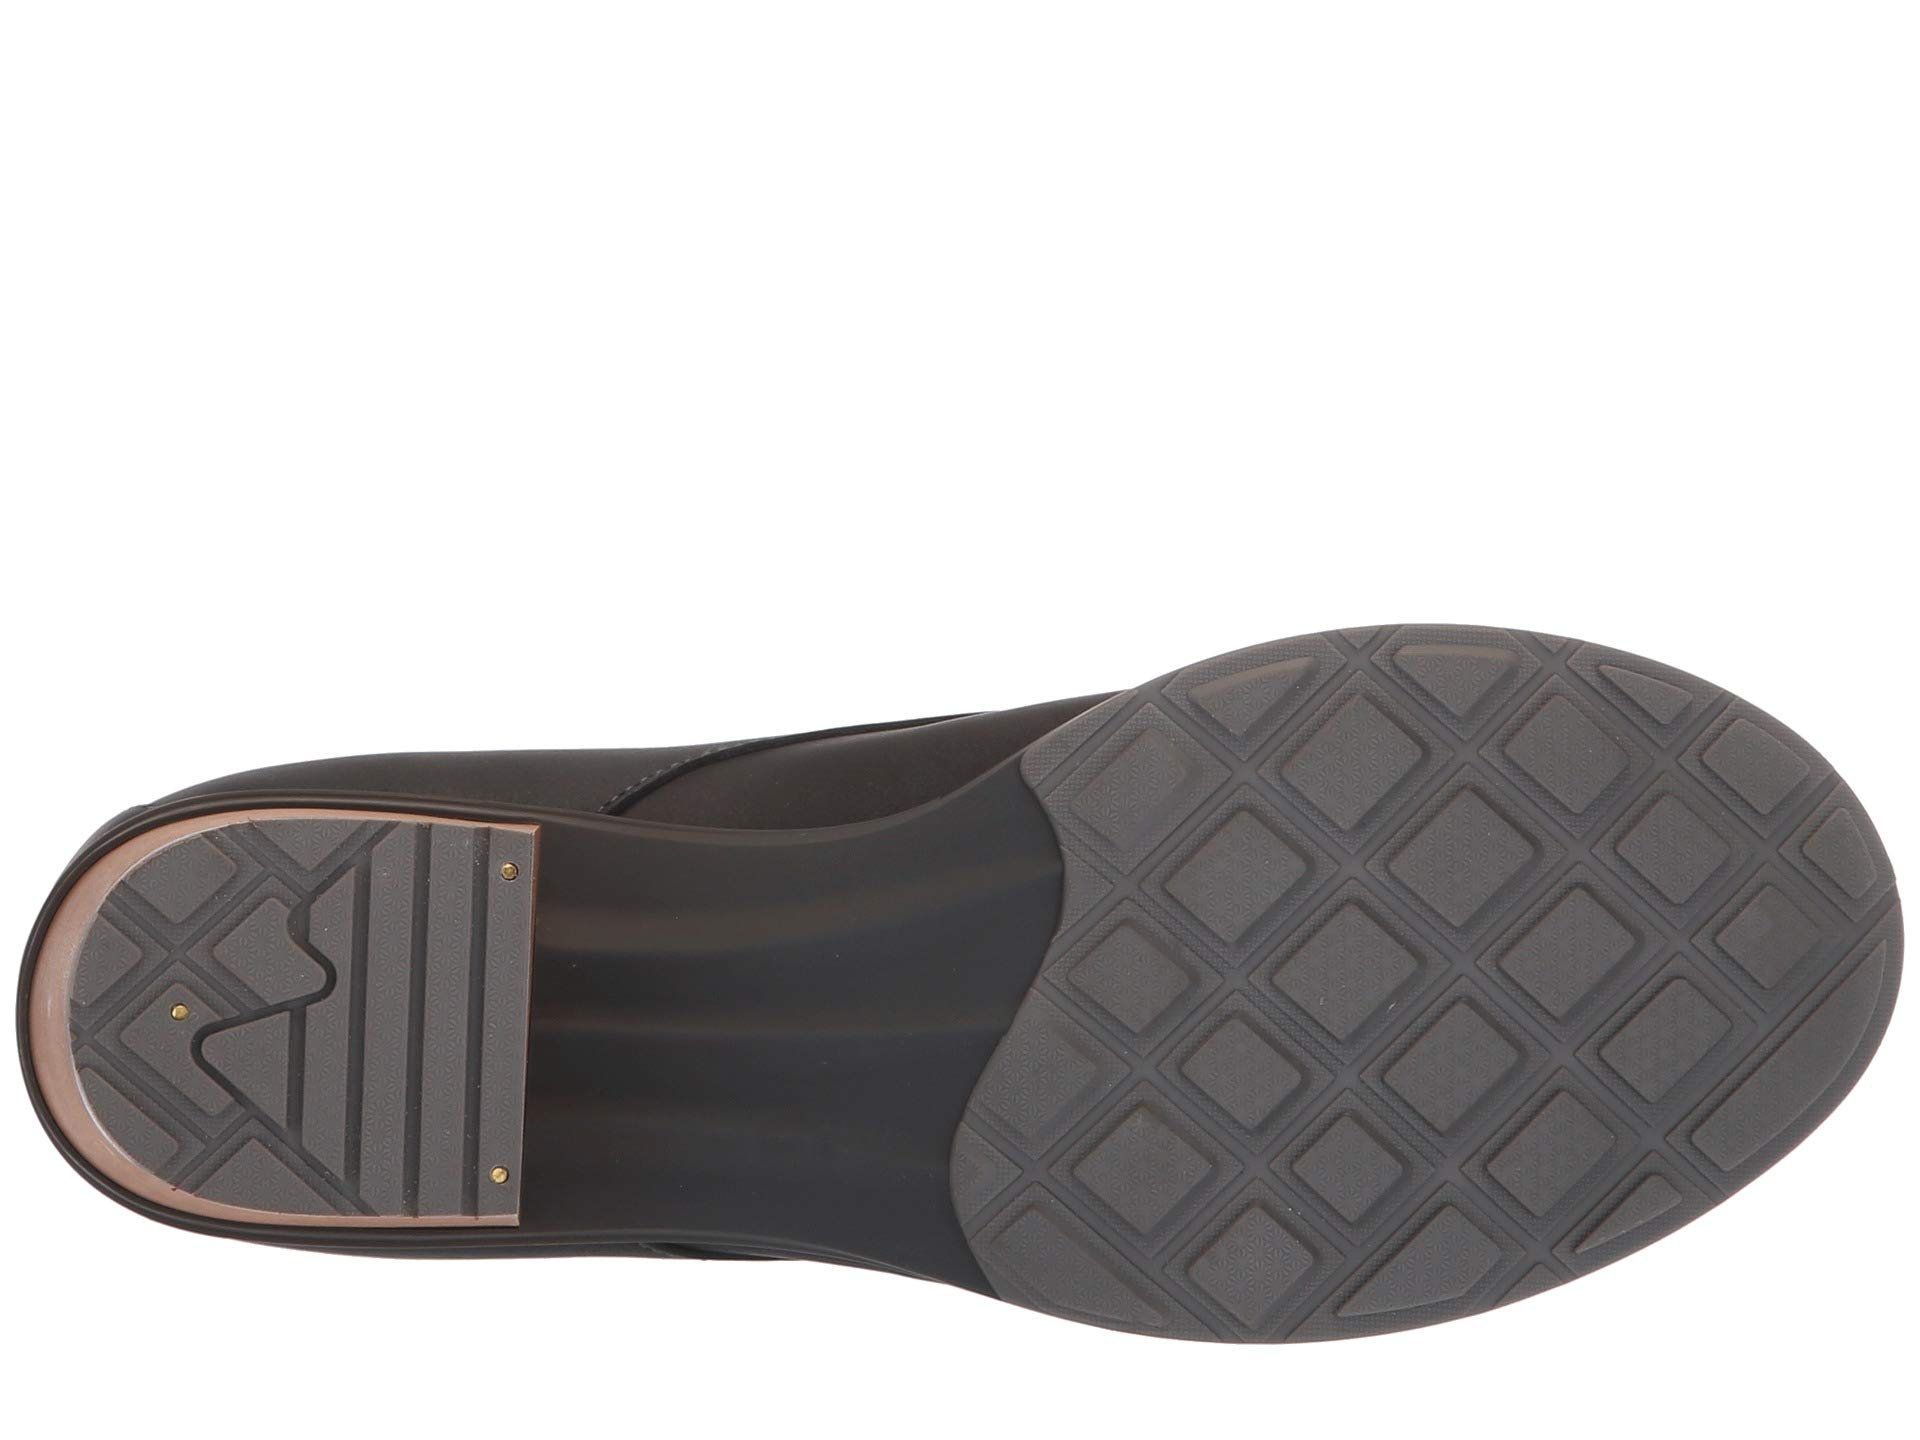chevron: (1116, 941, 1347, 1215), (1534, 629, 1770, 833), (98, 961, 262, 1163)
circle: (98, 961, 262, 1163), (417, 821, 540, 936)
line: (1616, 957, 1810, 1198), (345, 945, 493, 1131), (417, 821, 540, 936)
quad: (1116, 941, 1347, 1215), (1534, 629, 1770, 833), (1616, 957, 1810, 1198), (98, 961, 262, 1163)
triangle: (1534, 629, 1770, 833)
